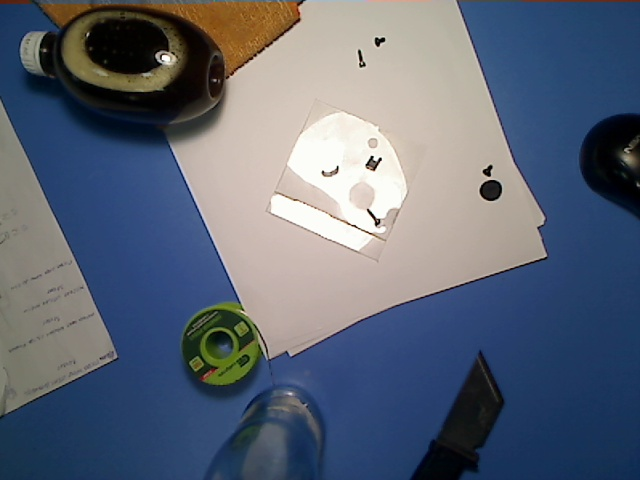plast_bottle: (14, 1, 228, 139)
